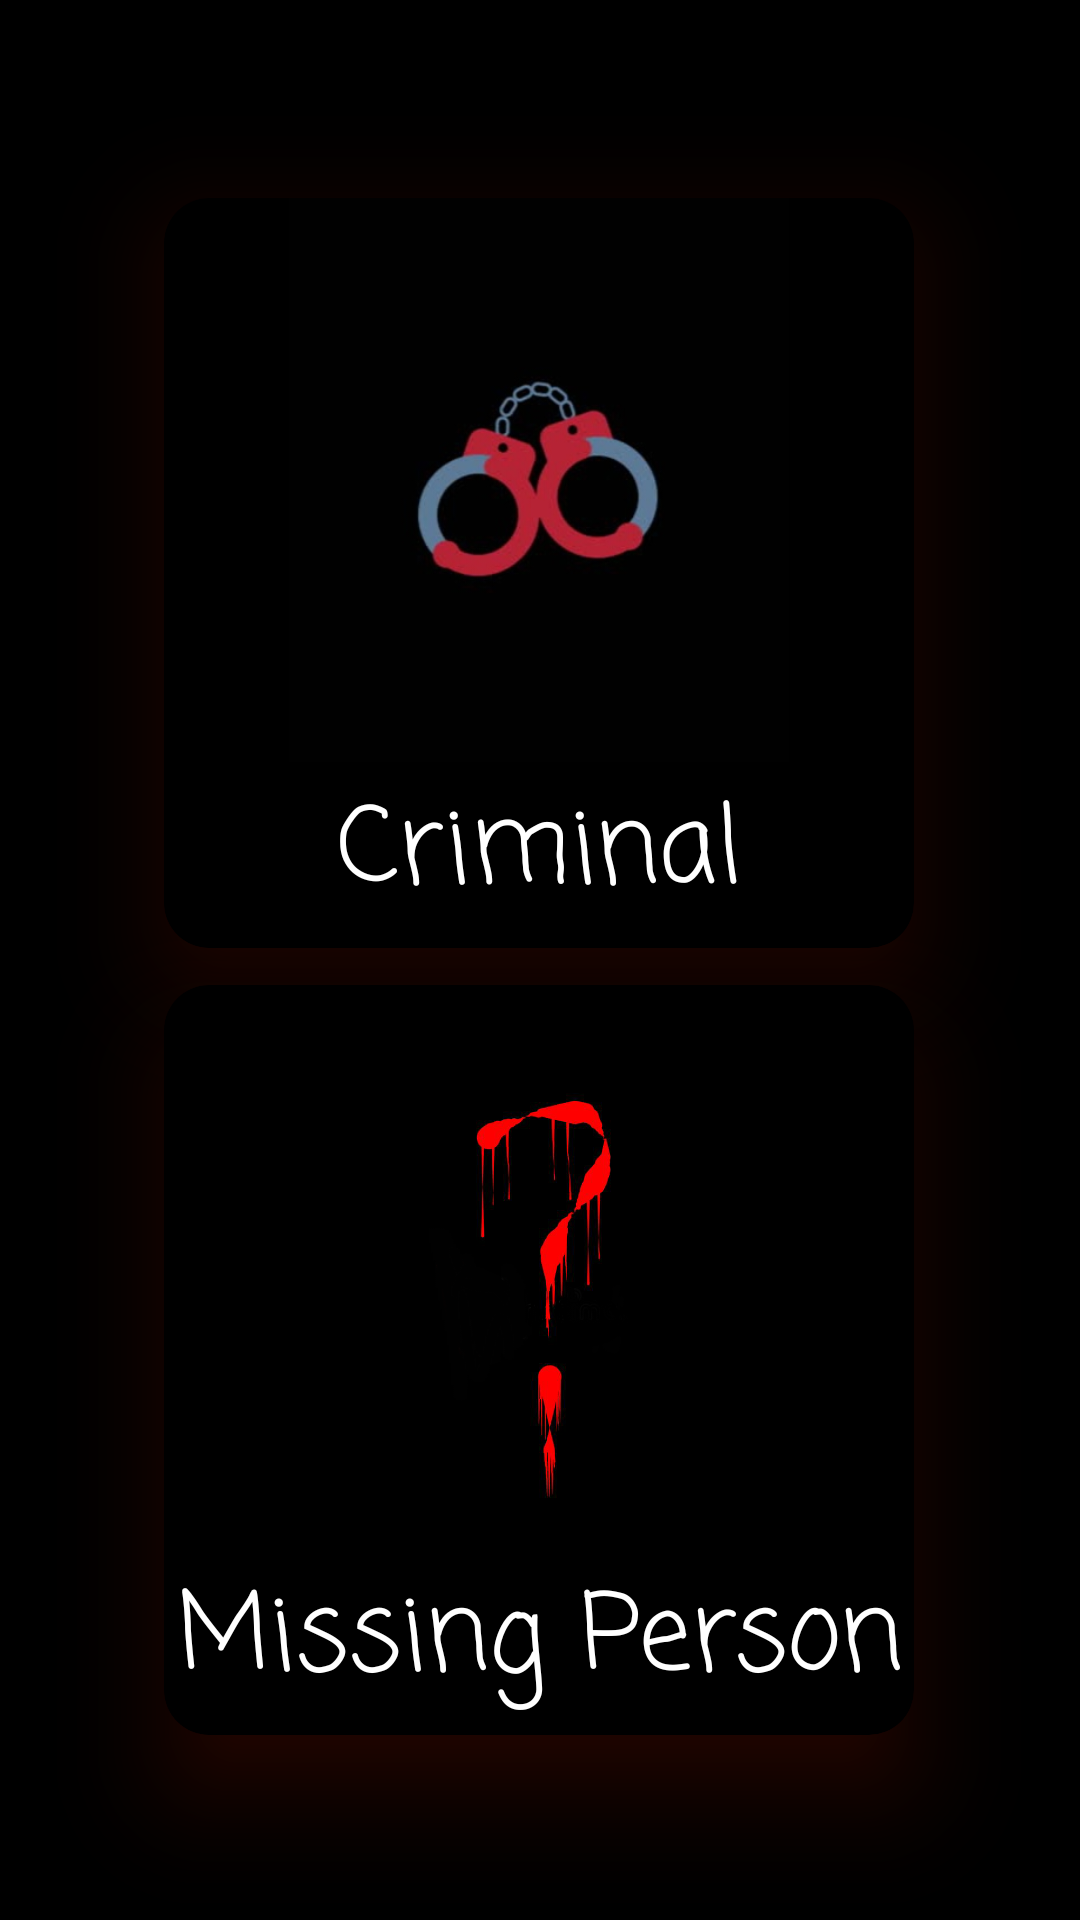

Screen size 1080px×1920px. Icon name, then its box in pixels as (x1, y1, x2, y2):
cuff: (417, 381, 658, 577)
